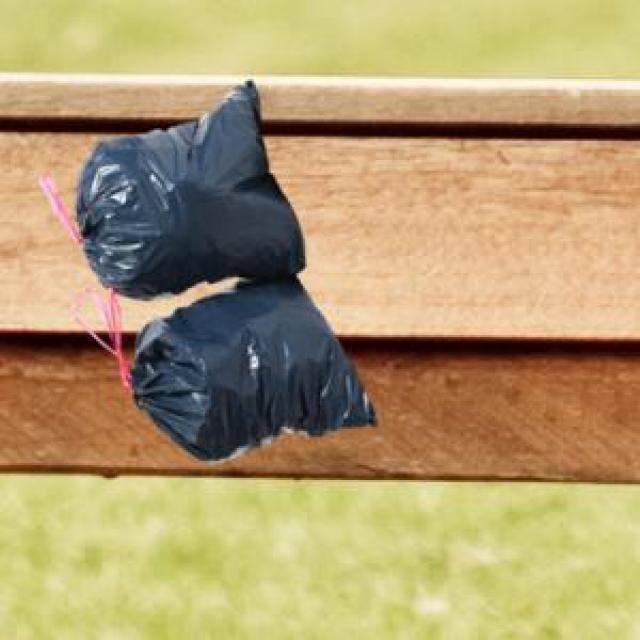waste: (76, 81, 375, 459)
